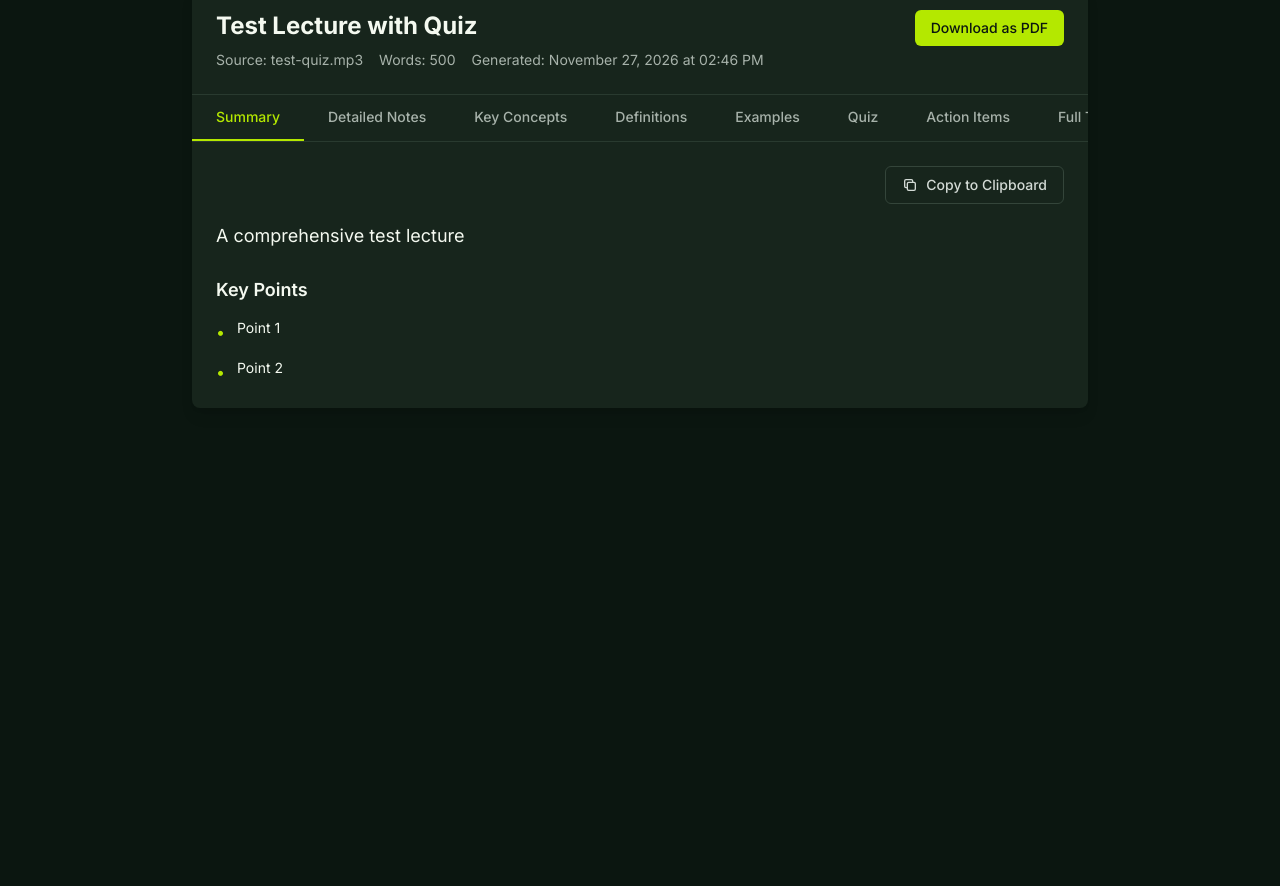
Test: Quiz Feature › Quiz Questions Display › should display all quiz questions
Click the button "Quiz" at (863, 118), box [824,95,902,141]
(page scrolled)
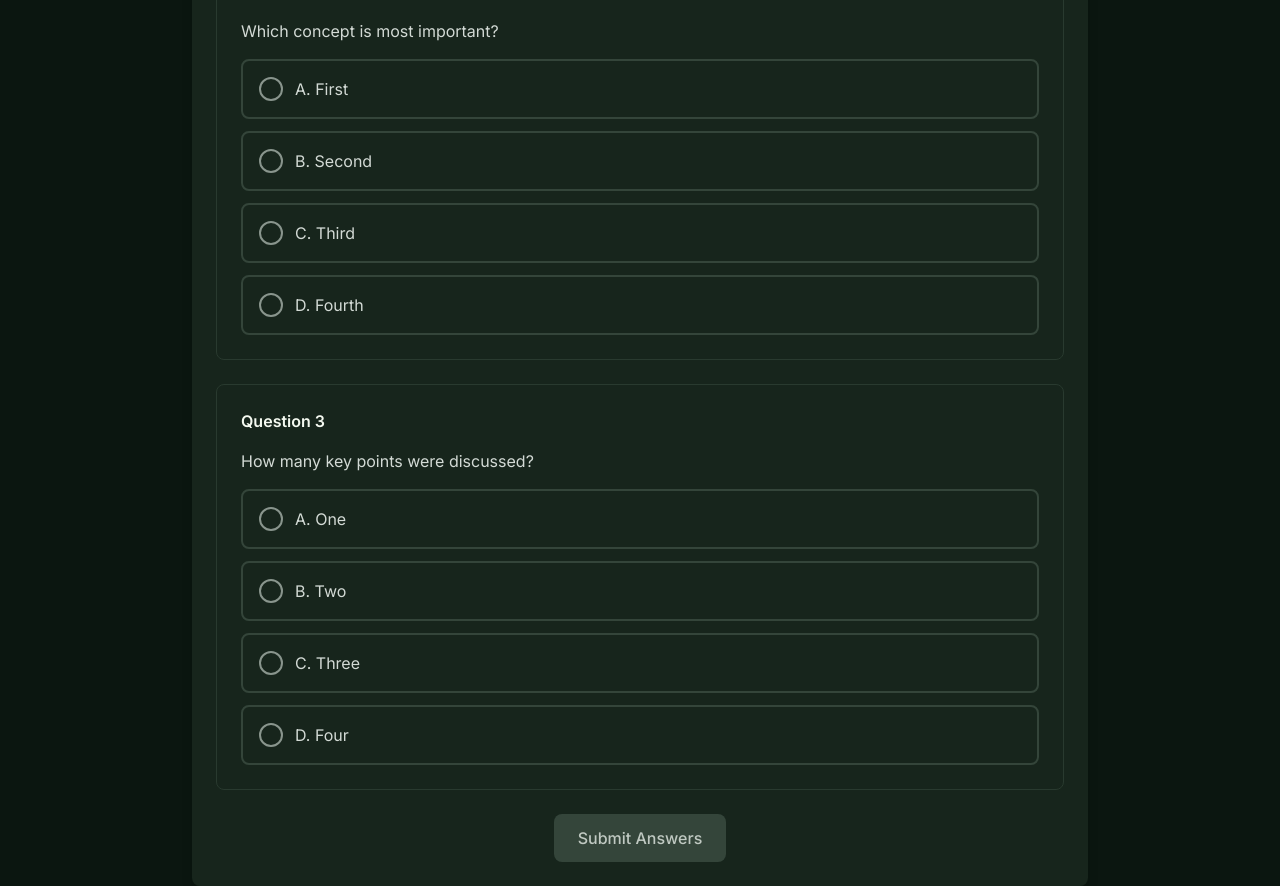
expect the text "Which concept is most important?" is shown: met, box [241,21,499,41]
expect the text "How many key points were discussed?" is shown: met, box [241,451,534,471]
